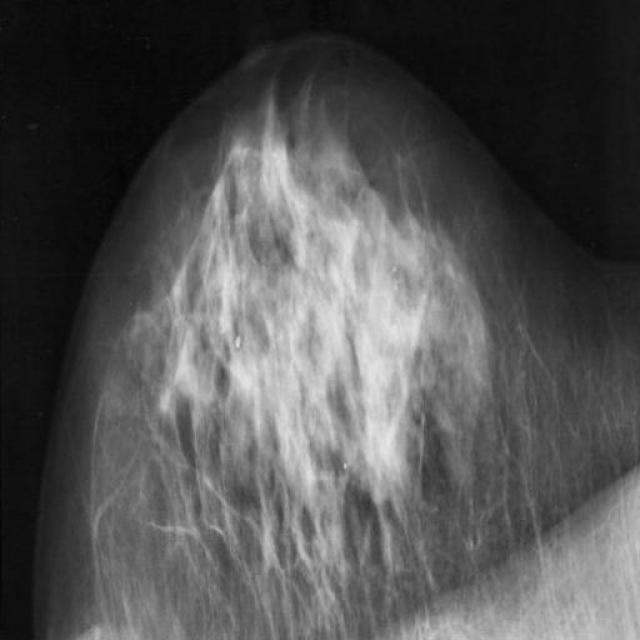cancer: (340, 143, 385, 228)
